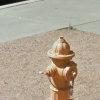Hydrant: (42, 29, 83, 100)
